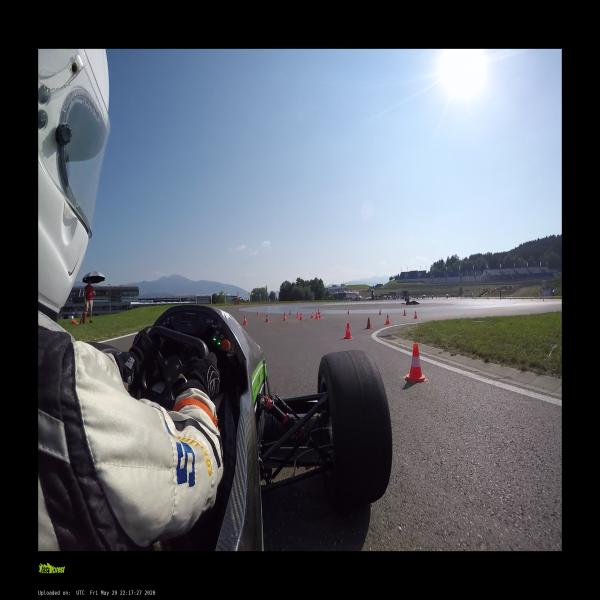orange_cone: (404, 344, 427, 382), (344, 322, 352, 338), (366, 318, 372, 328), (385, 314, 390, 324), (243, 316, 247, 324), (265, 315, 269, 322), (283, 312, 286, 321), (414, 311, 417, 318), (315, 312, 318, 319), (403, 310, 406, 316), (300, 312, 302, 320), (296, 311, 298, 318), (311, 312, 313, 318), (379, 308, 381, 314), (319, 312, 321, 318), (289, 310, 291, 315), (318, 311, 319, 319), (256, 311, 258, 314), (348, 309, 349, 314)
